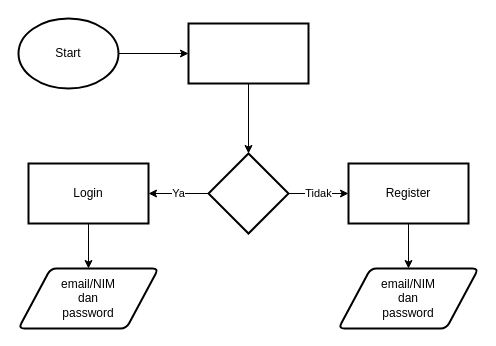
Image size: 496x346. Some labels were removed from this diagram. Here are the shapes that lost their labels. From the top down, the centre of each, then its label:
At point 248,53: "Home Page".
At point 248,193: "Akun?".
